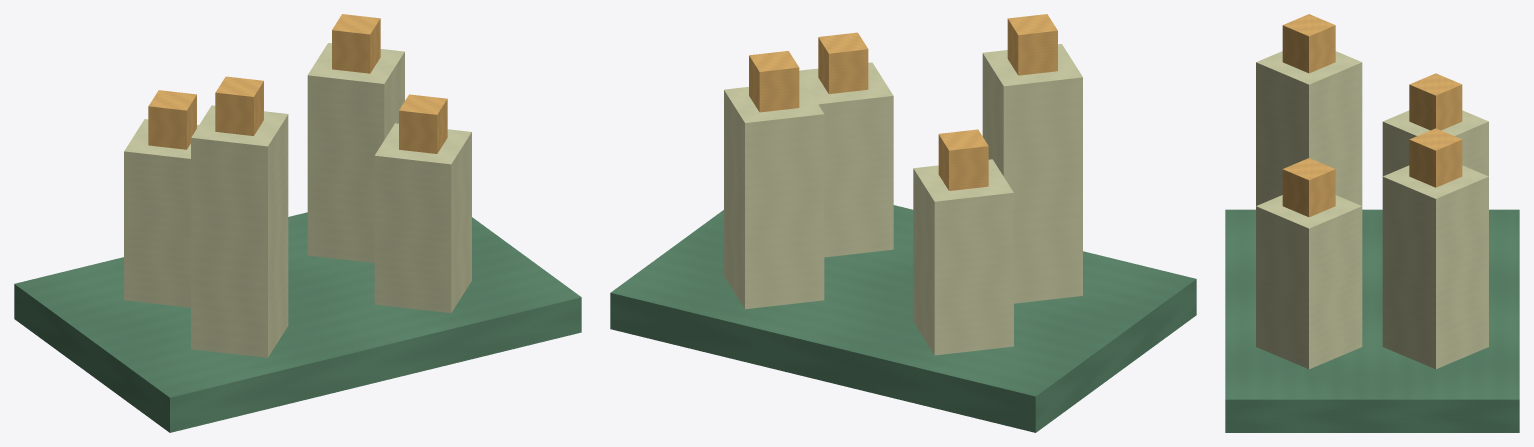
File: atlas100-s001-a04.lod2.glb
3 views of the same model, side by side, from view 1: azimuth 30°, elevation 25°; view 2: azimuth 150°, elevation 25°; view 3: azimuth 270°, elevation 25° (orthographic). The views are drawn at different scales.
Visible parts, largest first — view 1: atlas100-s001-a04:part-000, atlas100-s001-a04:part-007, atlas100-s001-a04:part-010, atlas100-s001-a04:part-004, atlas100-s001-a04:part-001, atlas100-s001-a04:part-008, atlas100-s001-a04:part-011, atlas100-s001-a04:part-005, atlas100-s001-a04:part-002; view 2: atlas100-s001-a04:part-000, atlas100-s001-a04:part-004, atlas100-s001-a04:part-007, atlas100-s001-a04:part-001, atlas100-s001-a04:part-010, atlas100-s001-a04:part-008, atlas100-s001-a04:part-002, atlas100-s001-a04:part-005, atlas100-s001-a04:part-011; view 3: atlas100-s001-a04:part-000, atlas100-s001-a04:part-004, atlas100-s001-a04:part-010, atlas100-s001-a04:part-007, atlas100-s001-a04:part-001, atlas100-s001-a04:part-005, atlas100-s001-a04:part-008, atlas100-s001-a04:part-011, atlas100-s001-a04:part-002.
Part boxes in pixels (x1,y1,x2,y2): atlas100-s001-a04:part-000: [14, 212, 581, 432]; atlas100-s001-a04:part-007: [191, 105, 288, 357]; atlas100-s001-a04:part-010: [374, 123, 471, 313]; atlas100-s001-a04:part-004: [307, 43, 404, 262]; atlas100-s001-a04:part-001: [124, 119, 198, 307]; atlas100-s001-a04:part-008: [215, 76, 263, 135]; atlas100-s001-a04:part-011: [399, 94, 447, 153]; atlas100-s001-a04:part-005: [332, 14, 380, 73]; atlas100-s001-a04:part-002: [148, 90, 196, 149]; atlas100-s001-a04:part-000: [610, 205, 1196, 432]; atlas100-s001-a04:part-004: [724, 80, 824, 309]; atlas100-s001-a04:part-007: [982, 44, 1082, 303]; atlas100-s001-a04:part-001: [913, 159, 1013, 355]; atlas100-s001-a04:part-010: [799, 62, 893, 257]; atlas100-s001-a04:part-008: [1007, 14, 1057, 75]; atlas100-s001-a04:part-002: [938, 129, 988, 190]; atlas100-s001-a04:part-005: [749, 51, 799, 112]; atlas100-s001-a04:part-011: [818, 32, 868, 93]; atlas100-s001-a04:part-000: [1225, 209, 1519, 432]; atlas100-s001-a04:part-004: [1382, 165, 1488, 369]; atlas100-s001-a04:part-010: [1256, 195, 1362, 369]; atlas100-s001-a04:part-007: [1256, 51, 1362, 205]; atlas100-s001-a04:part-001: [1382, 110, 1488, 176]; atlas100-s001-a04:part-005: [1409, 128, 1462, 187]; atlas100-s001-a04:part-008: [1282, 14, 1335, 73]; atlas100-s001-a04:part-011: [1282, 158, 1335, 217]; atlas100-s001-a04:part-002: [1409, 73, 1462, 130].
Bounding box in the file's own units: 1.18 × 0.7804 × 0.7697.
Materials: 3 (3 with a texture image).
